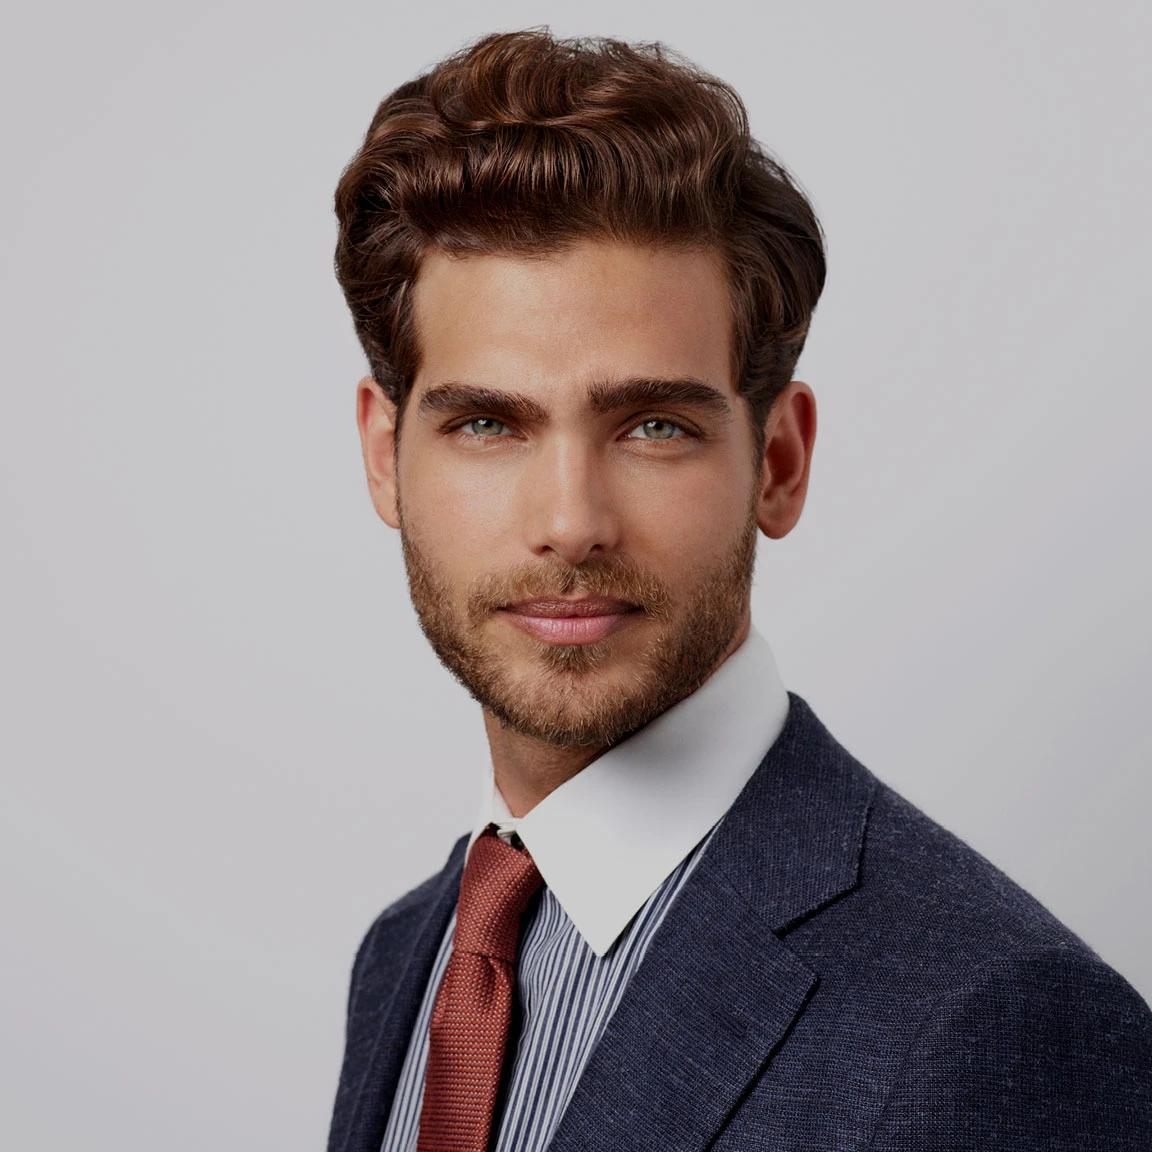Without Helmet: (299, 37, 832, 748)
